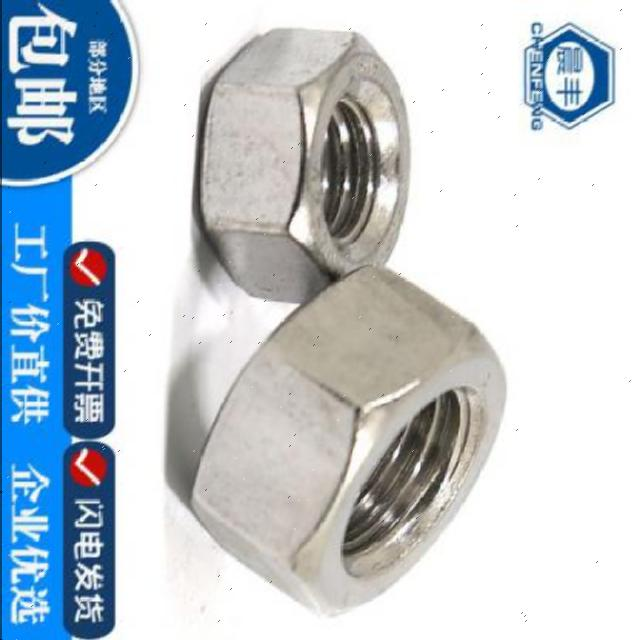Nut: (184, 262, 510, 620), (195, 22, 412, 305)
